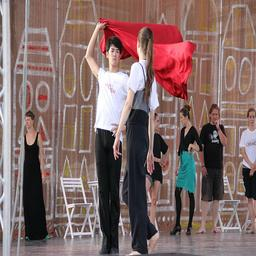person: (113, 27, 159, 255), (85, 21, 129, 255), (170, 106, 202, 235), (21, 111, 49, 240), (199, 105, 226, 234), (149, 113, 168, 237), (239, 108, 255, 234)
